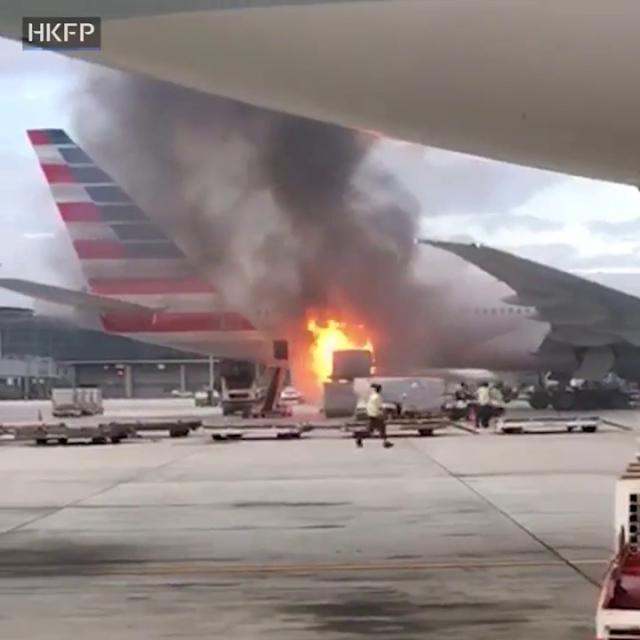Fire: (294, 310, 374, 388)
Smoke: (101, 20, 436, 317)
